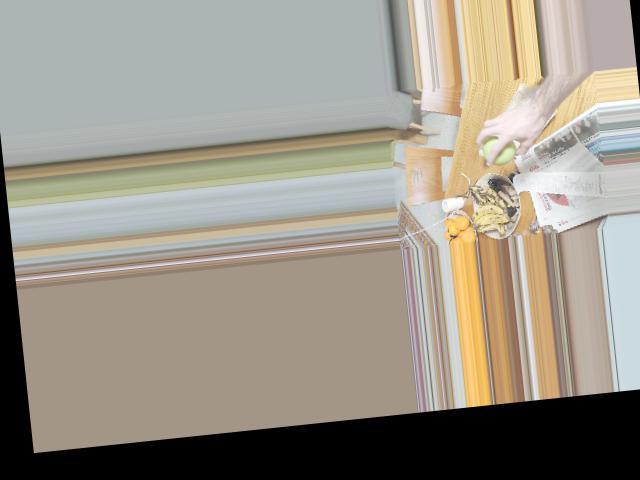apple: (479, 130, 520, 165)
